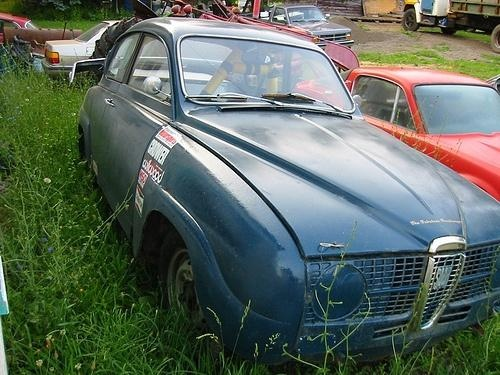car: (79, 16, 500, 364), (295, 66, 500, 203), (44, 20, 131, 78), (244, 7, 353, 48)
